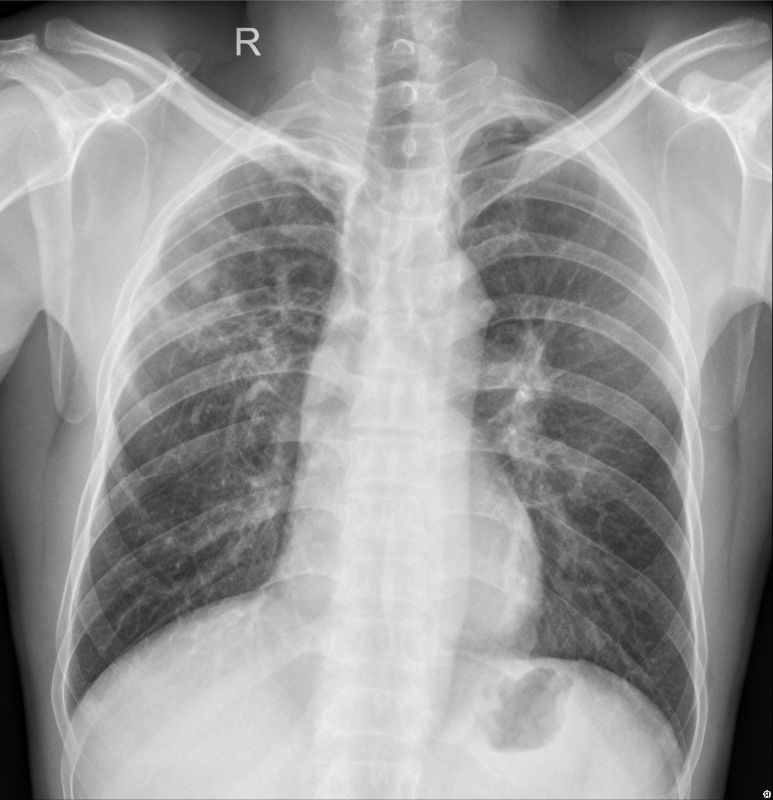Tuberculosis (TB): (158, 243, 271, 411)
